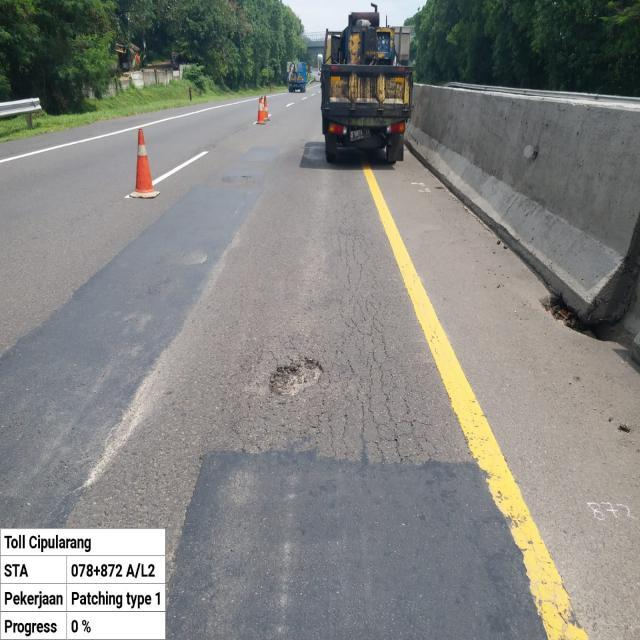Buraco: (534, 291, 640, 345), (266, 355, 328, 399)
